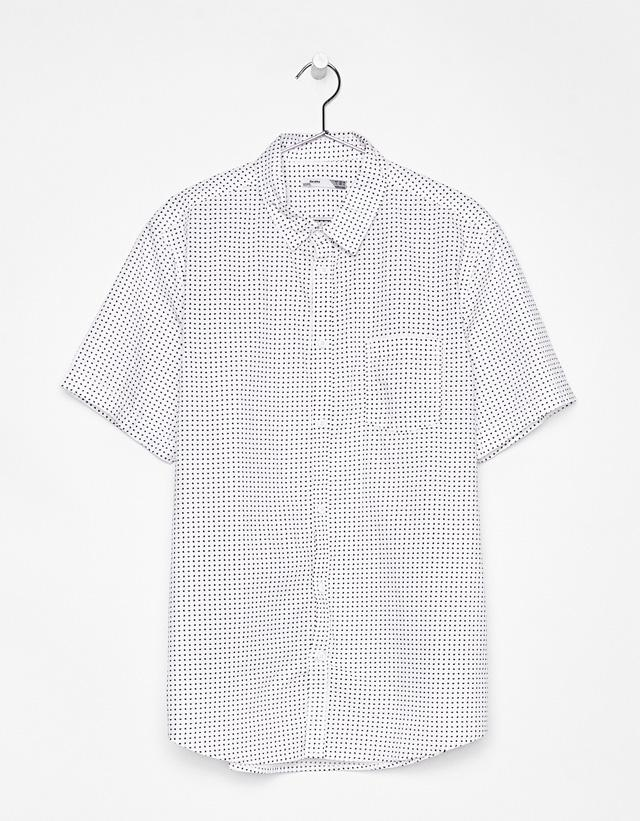teeshirt: (62, 124, 578, 785)
